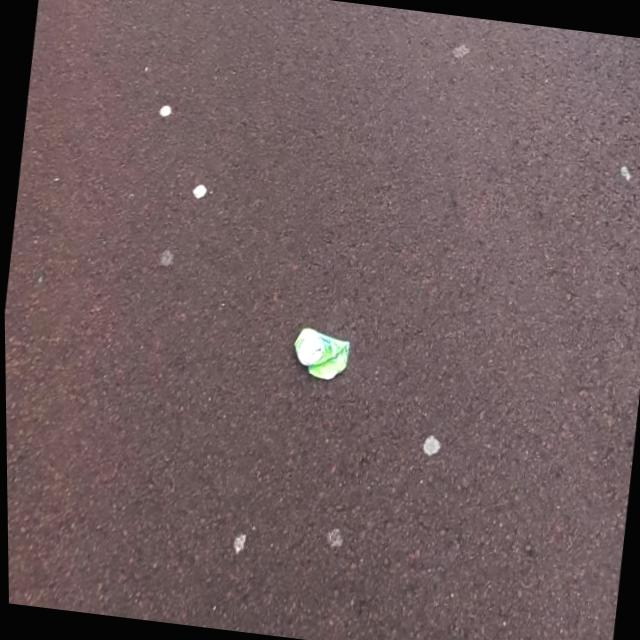Can-Metal: (287, 322, 351, 382)
